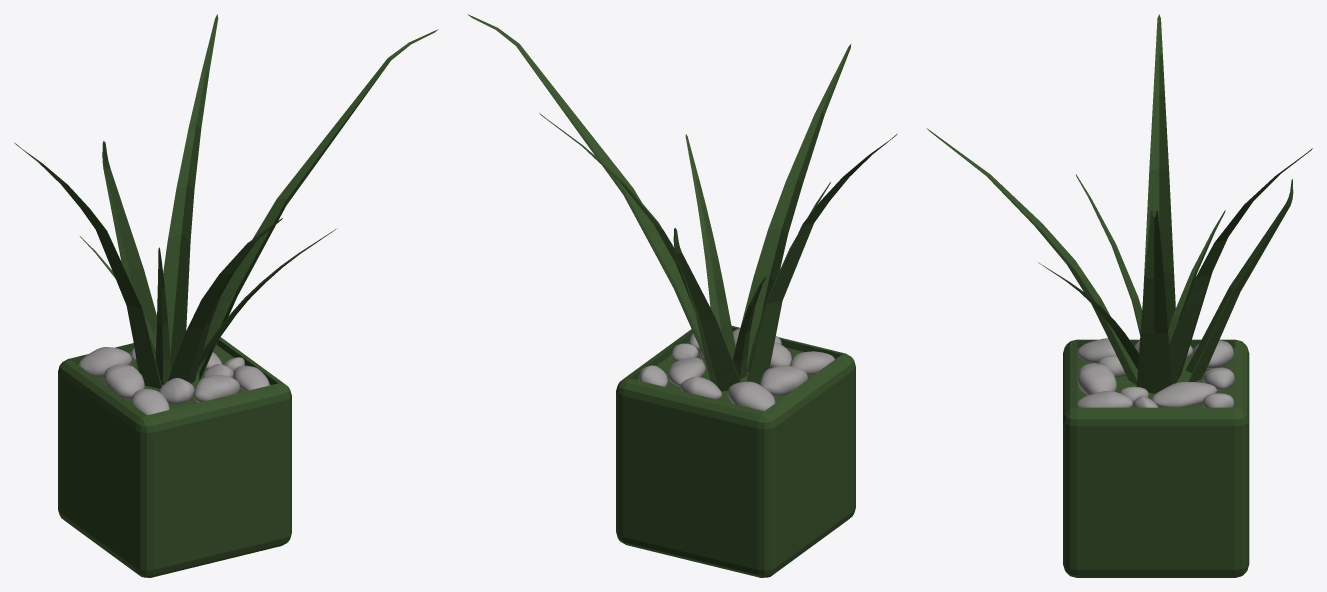
Rendered from Plant.obj.
3 views of the same model, side by side, from view 1: azimuth 30°, elevation 25°; view 2: azimuth 150°, elevation 25°; view 3: azimuth 270°, elevation 25° (orthographic). The views are drawn at different scales.
Parts seen in each view (by area): view 1: polySurface59 polySurface4618, polySurface59 polySurface4623, polySurface59 polySurface4615, polySurface59 polySurface4631, polySurface59 polySurface4634, polySurface59 polySurface4624, polySurface59 polySurface4614, polySurface59 polySurface4632, polySurface59 polySurface4621, polySurface59 polySurface4622, polySurface59 polySurface4629, polySurface4630 polySurface59 (+3 smaller); view 2: polySurface59 polySurface4618, polySurface59 polySurface4634, polySurface59 polySurface4615, polySurface59 polySurface4631, polySurface59 polySurface4624, polySurface59 polySurface4629, polySurface59 polySurface4632, polySurface59 polySurface4621, polySurface59 polySurface4619, polySurface59 polySurface4623, polySurface59 polySurface4633, polySurface4630 polySurface59 (+2 smaller); view 3: polySurface59 polySurface4618, polySurface59 polySurface4631, polySurface59 polySurface4615, polySurface59 polySurface4623, polySurface59 polySurface4624, polySurface59 polySurface4634, polySurface59 polySurface4633, polySurface59 polySurface4617, polySurface59 polySurface4622, polySurface59 polySurface4614, polySurface59 polySurface4619, polySurface59 polySurface4625 (+4 smaller).
Part boxes in pixels (box(x1,y1,x2,y2)): polySurface59 polySurface4618: box(58, 330, 291, 577); polySurface59 polySurface4623: box(153, 14, 218, 370); polySurface59 polySurface4615: box(197, 29, 438, 380); polySurface59 polySurface4631: box(14, 142, 161, 388); polySurface59 polySurface4634: box(168, 218, 282, 383); polySurface59 polySurface4624: box(102, 141, 156, 371); polySurface59 polySurface4614: box(155, 247, 171, 384); polySurface59 polySurface4632: box(103, 364, 144, 398); polySurface59 polySurface4621: box(78, 347, 131, 376); polySurface59 polySurface4622: box(193, 375, 239, 402); polySurface59 polySurface4629: box(199, 228, 337, 366); polySurface4630 polySurface59: box(131, 388, 169, 415); polySurface59 polySurface4618: box(616, 326, 855, 577); polySurface59 polySurface4634: box(735, 44, 851, 364); polySurface59 polySurface4615: box(467, 14, 705, 360); polySurface59 polySurface4631: box(746, 133, 897, 383); polySurface59 polySurface4624: box(673, 228, 740, 391); polySurface59 polySurface4629: box(685, 134, 735, 359); polySurface59 polySurface4632: box(759, 365, 807, 396); polySurface59 polySurface4621: box(727, 381, 775, 411); polySurface59 polySurface4619: box(732, 277, 765, 379); polySurface59 polySurface4623: box(539, 113, 692, 305); polySurface59 polySurface4633: box(667, 357, 705, 386); polySurface4630 polySurface59: box(790, 351, 834, 375); polySurface59 polySurface4618: box(1063, 339, 1249, 577); polySurface59 polySurface4631: box(1143, 14, 1175, 330); polySurface59 polySurface4615: box(1137, 210, 1171, 393); polySurface59 polySurface4623: box(1169, 148, 1312, 383); polySurface59 polySurface4624: box(1186, 179, 1293, 381); polySurface59 polySurface4634: box(926, 128, 1137, 385); polySurface59 polySurface4633: box(1151, 382, 1216, 407); polySurface59 polySurface4617: box(1077, 348, 1235, 407); polySurface59 polySurface4622: box(1077, 363, 1116, 395); polySurface59 polySurface4614: box(1075, 174, 1142, 335); polySurface59 polySurface4619: box(1168, 210, 1225, 345); polySurface59 polySurface4625: box(1077, 391, 1132, 407).
Bounding box in the file's own units: 0.9839 × 0.9805 × 0.7468.
Materials: 4 (4 with a texture image).
